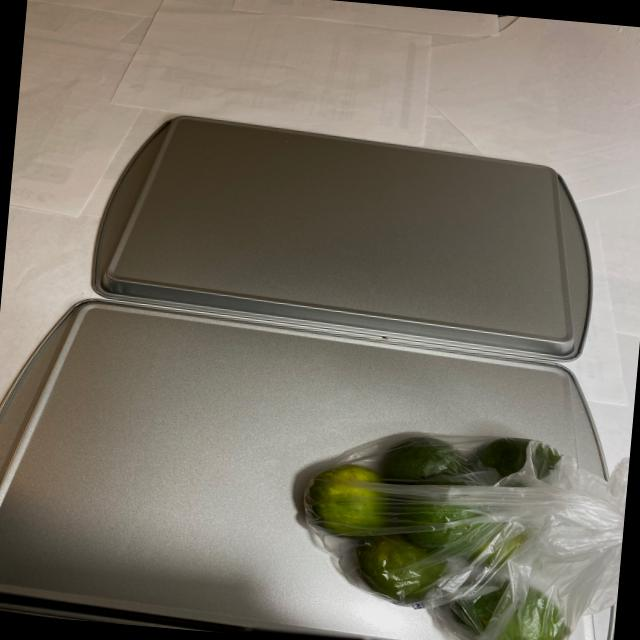lemon: (294, 423, 609, 640)
